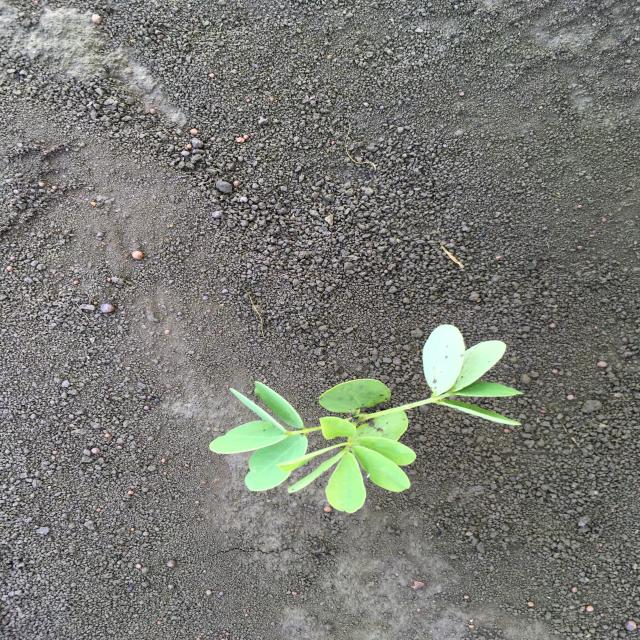Sicklepod: (206, 323, 528, 516)
